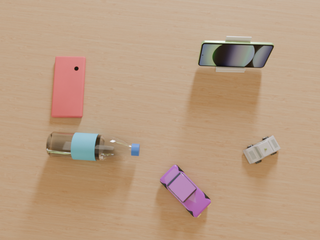bottle: (46, 132, 140, 161)
phone: (51, 56, 86, 118), (198, 41, 274, 68)
toy_car: (160, 165, 211, 217), (243, 136, 280, 164)
